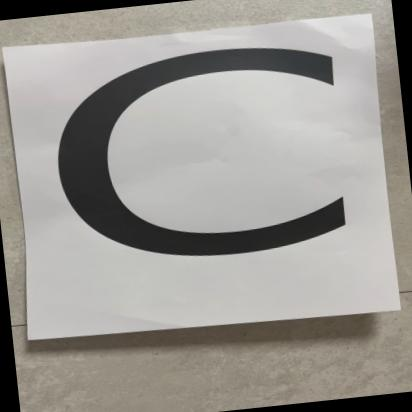seat: (10, 13, 406, 343)
